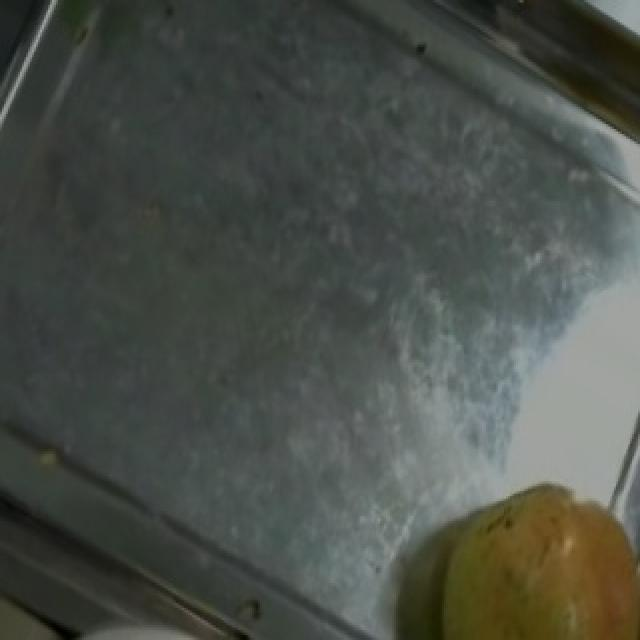fruit: (432, 456, 640, 640)
